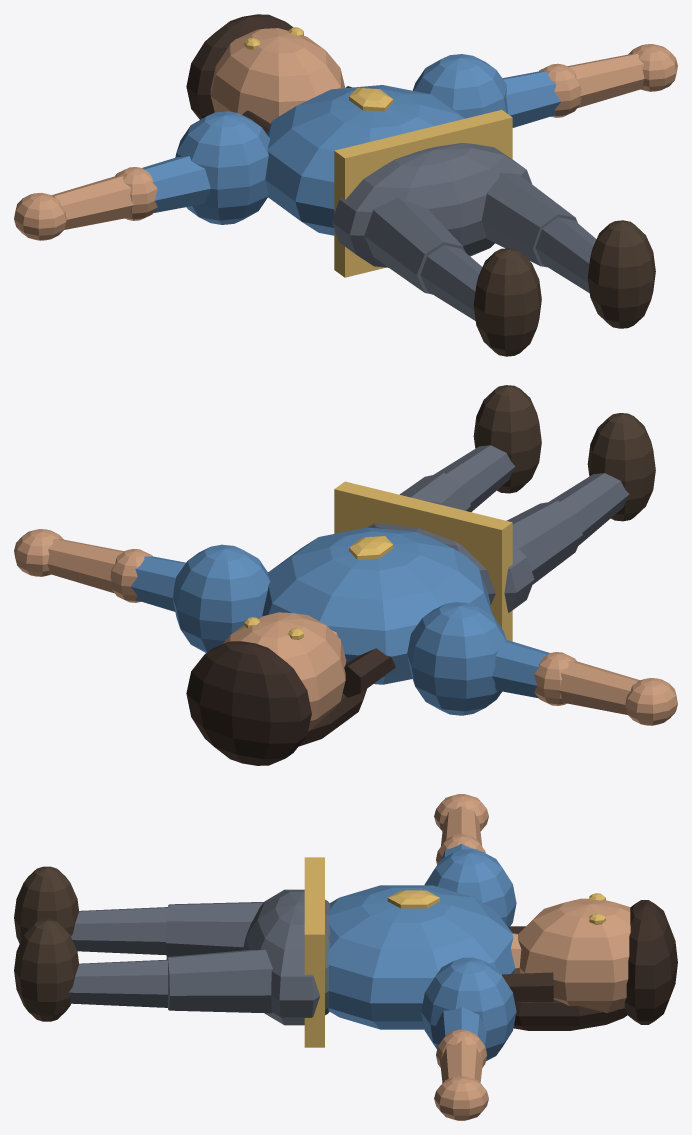
The model's file is base-female.glb.
3 renders of one model, top to bottom at view 1: azimuth 30°, elevation 25°; view 2: azimuth 150°, elevation 25°; view 3: azimuth 270°, elevation 25°, orthographic. The views are drawn at different scales.
Parts seen in each view (by area): view 1: Torso, Pelvis, Head, Shoulder.001, Belt, Boot.001, Boot, Thigh, Thigh.001, Shoulder, Hair_Cap, Shin (+10 smaller); view 2: Torso, Hair_Cap, Shoulder.001, Belt, Shoulder, Head, Boot.001, Boot, Thigh, Forearm, Shin, Forearm.001 (+12 smaller); view 3: Torso, Head, Pelvis, Thigh.001, Shoulder, Hair_Cap, Boot, Thigh, Shin.001, Shin, Shoulder.001, Belt (+11 smaller).
Boxes of the visible parts, box(x1,y1,x2,y2) form: Torso: box(265, 85, 465, 235); Pelvis: box(331, 143, 531, 267); Head: box(210, 28, 345, 123); Shoulder.001: box(175, 111, 269, 224); Belt: box(334, 110, 512, 277); Boot.001: box(473, 248, 541, 356); Boot: box(587, 220, 655, 328); Thigh: box(364, 197, 465, 294); Thigh.001: box(481, 172, 577, 267); Shoulder: box(413, 54, 508, 118); Hair_Cap: box(186, 14, 292, 119); Shin: box(420, 245, 482, 320); Torso: box(262, 527, 492, 684); Hair_Cap: box(186, 641, 311, 765); Shoulder.001: box(407, 602, 506, 715); Belt: box(334, 481, 512, 641); Shoulder: box(173, 544, 269, 652); Head: box(223, 612, 346, 731); Boot.001: box(587, 413, 655, 521); Boot: box(473, 385, 541, 493); Thigh: box(506, 500, 582, 584); Forearm: box(557, 661, 639, 714); Shin: box(549, 473, 629, 545); Forearm.001: box(47, 539, 123, 593); Torso: box(328, 885, 515, 1029); Head: box(518, 898, 630, 1012); Pelvis: box(243, 889, 330, 1025); Thigh.001: box(166, 949, 272, 1013); Shoulder: box(421, 957, 516, 1061); Hair_Cap: box(624, 900, 677, 1024); Boot: box(14, 919, 78, 1021); Thigh: box(166, 902, 263, 956); Shin.001: box(69, 959, 167, 1007); Shin: box(71, 907, 167, 955); Shoulder.001: box(424, 849, 516, 926); Belt: box(304, 857, 324, 1047).
Size of the model in its own units: 1.95 by 0.392 by 1.81.
